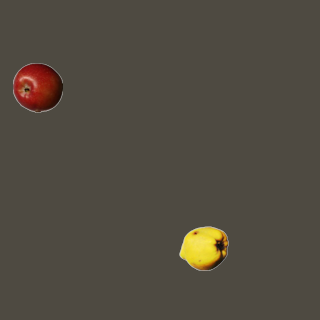Apple Braeburn: (12, 62, 62, 112)
Quince: (178, 223, 228, 273)
